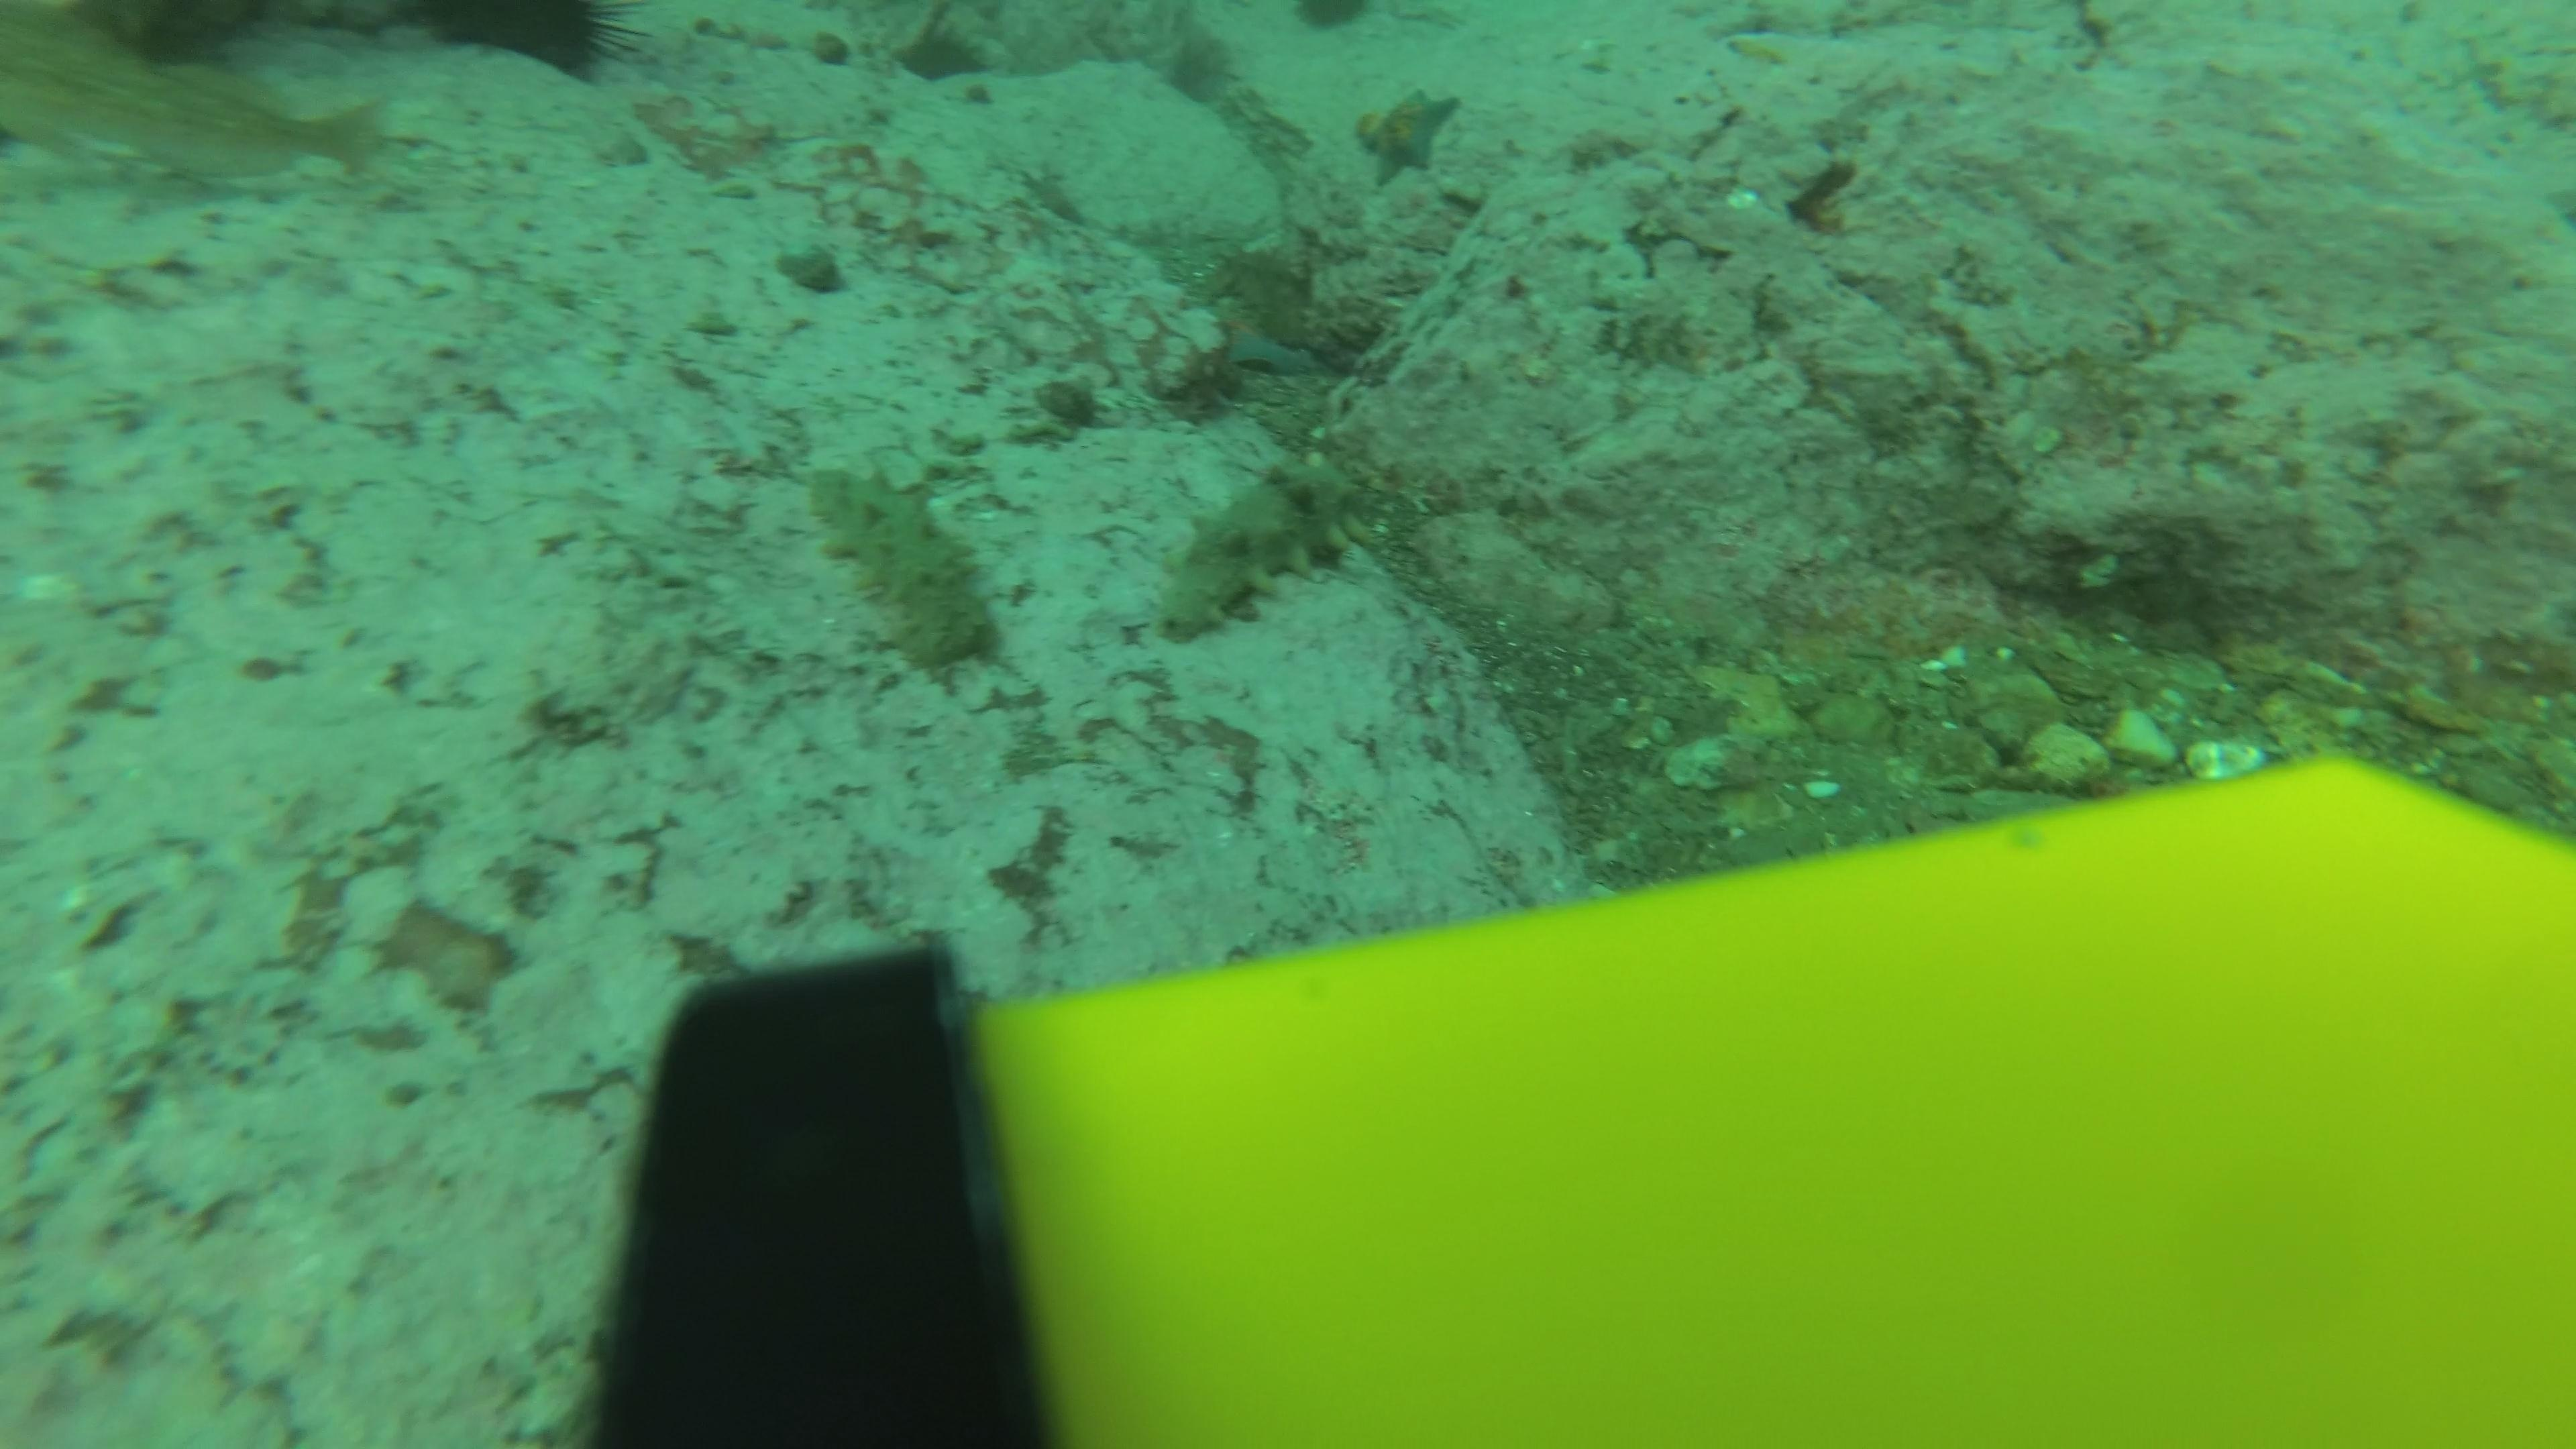echinus: (409, 2, 630, 87)
holothurian: (1141, 432, 1396, 646), (801, 455, 1003, 679), (1219, 228, 1410, 366)
starfish: (1352, 83, 1465, 184), (1208, 301, 1332, 379), (1016, 161, 1090, 232)
